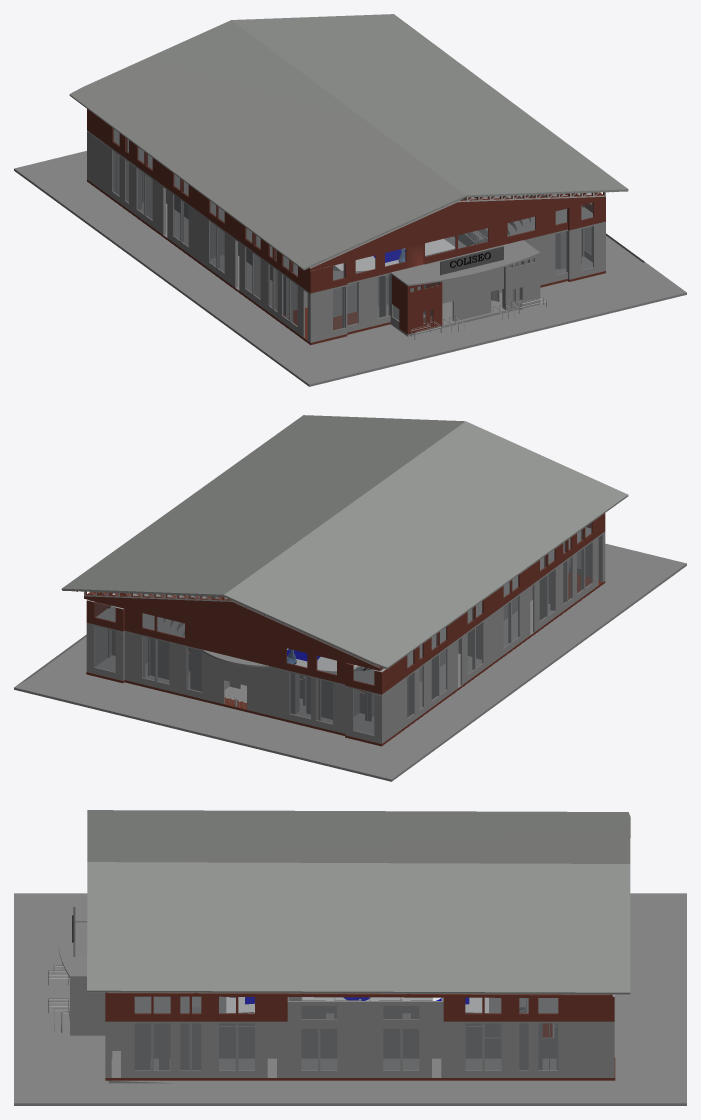
Rendered from educacion-coliseo.glb.
The picture shows the model from 3 angles, top to bottom: view 1: azimuth 30°, elevation 25°; view 2: azimuth 150°, elevation 25°; view 3: azimuth 270°, elevation 25°; orthographic projection. The views are drawn at different scales.
Parts seen in each view (by area): view 1: COLISEO 2; view 2: COLISEO 2; view 3: COLISEO 2.
Part boxes in pixels (<box>): COLISEO 2: <box>14,14,686,386</box>; COLISEO 2: <box>14,415,686,781</box>; COLISEO 2: <box>14,810,686,1105</box>.
Size of the model in its own units: 53.22 by 16.42 by 72.09.
